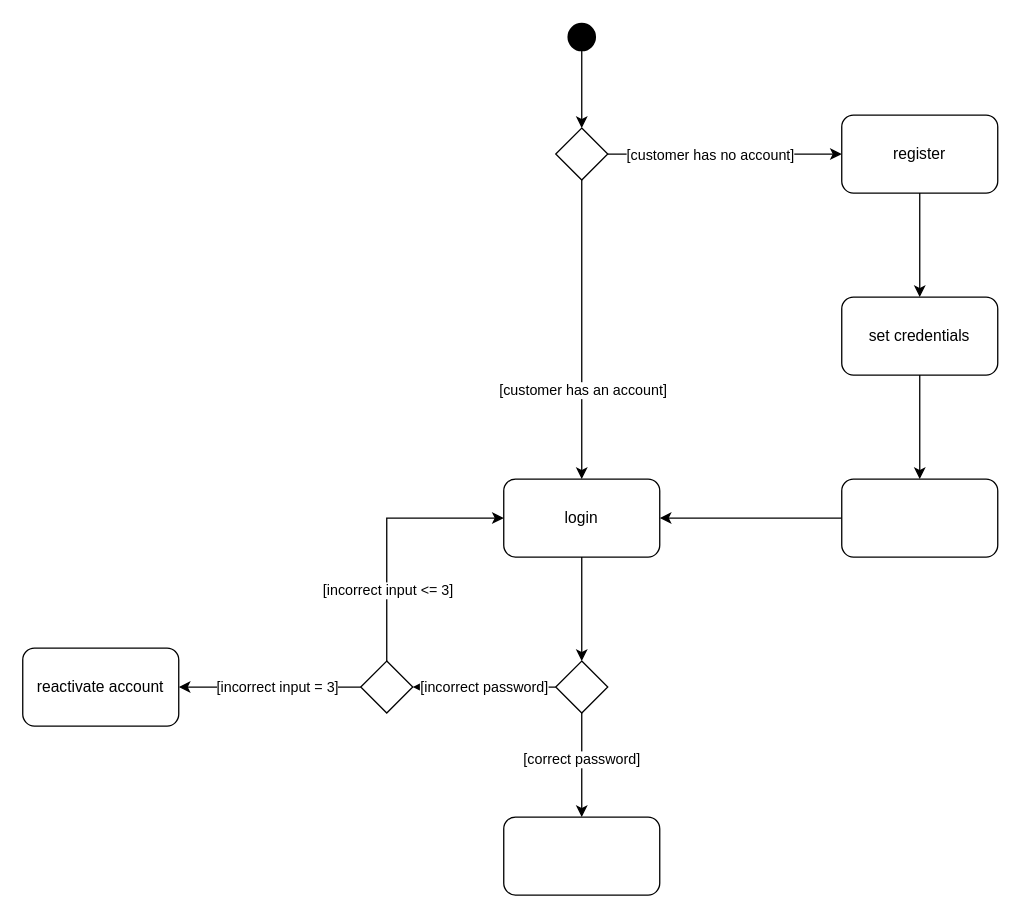
Some shapes in this 1020 by 918 pixel diagram are drawn without their labels. Here are the shapes that lost their labels. From the top down, the centre of each, then its label:
the point at 919,517: confirm registration mail
the point at 581,855: make reservation
